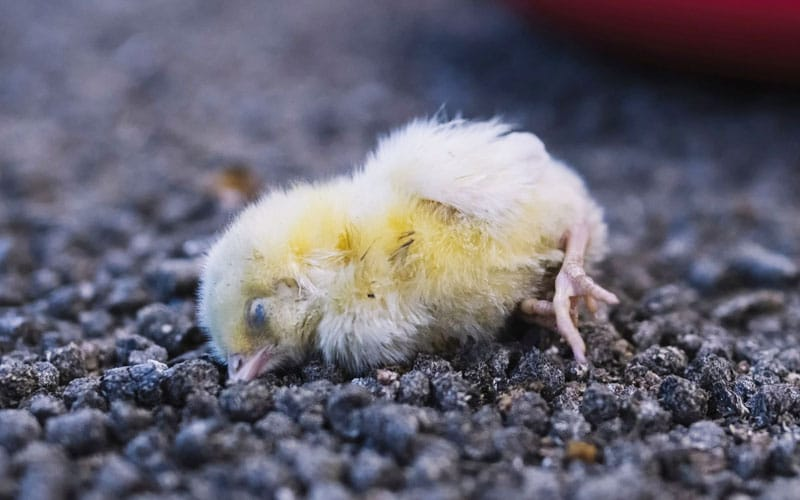Unhealthy: (191, 102, 632, 398)
